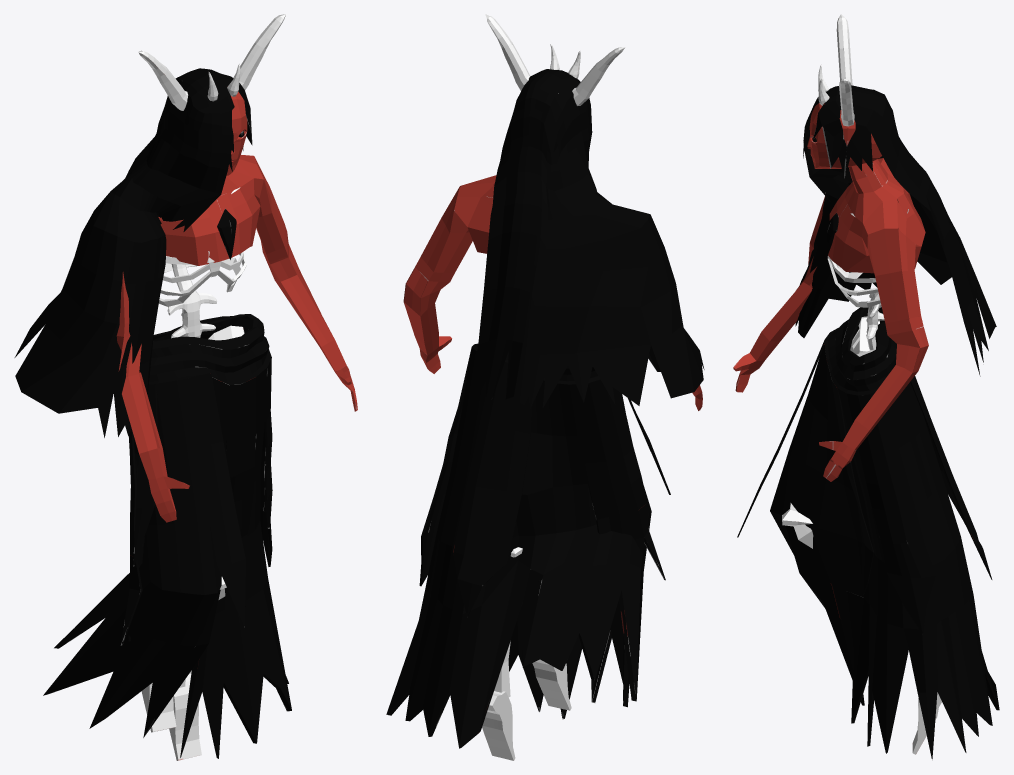
Rendered from cursedqueenattack_22.fbx.
3 views of the same model, side by side, from view 1: azimuth 30°, elevation 25°; view 2: azimuth 150°, elevation 25°; view 3: azimuth 270°, elevation 25° (orthographic). The views are drawn at different scales.
Parts seen in each view (by area): view 1: cursed_queen; view 2: cursed_queen; view 3: cursed_queen.
Part boxes in pixels (x1=…): cursed_queen: x1=14, y1=14, x2=357, y2=760; cursed_queen: x1=386, y1=14, x2=704, y2=760; cursed_queen: x1=733, y1=14, x2=999, y2=760.
Bounding box in the file's own units: 120 × 278 × 96.62.
